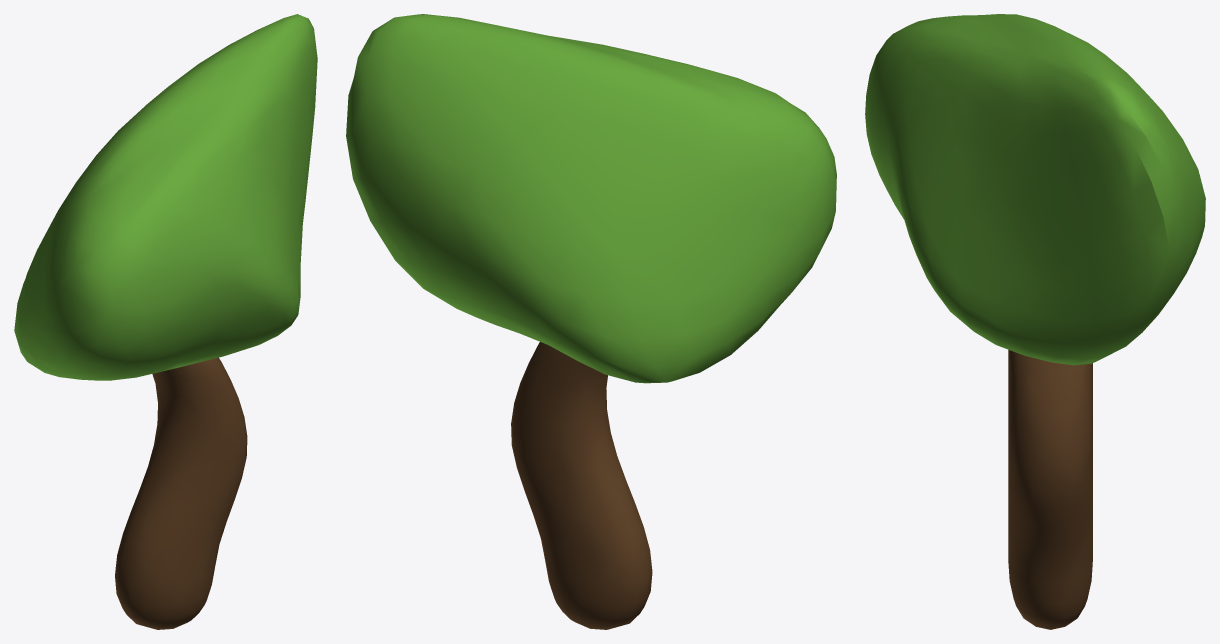
Rendered from Tree 9.fbx.
3 renders of one model, left to right at view 1: azimuth 30°, elevation 25°; view 2: azimuth 150°, elevation 25°; view 3: azimuth 270°, elevation 25°, orthographic. The views are drawn at different scales.
Parts seen in each view (by area): view 1: Sphere, Cube; view 2: Sphere, Cube; view 3: Sphere, Cube.
Part boxes in pixels (box(x1,y1,x2,y2)): Sphere: box(14, 14, 317, 380); Cube: box(115, 357, 247, 629); Sphere: box(346, 14, 836, 383); Cube: box(511, 342, 652, 629); Sphere: box(865, 14, 1205, 365); Cube: box(1008, 350, 1092, 629).
Size of the model in its own units: 227 by 342 by 169.
